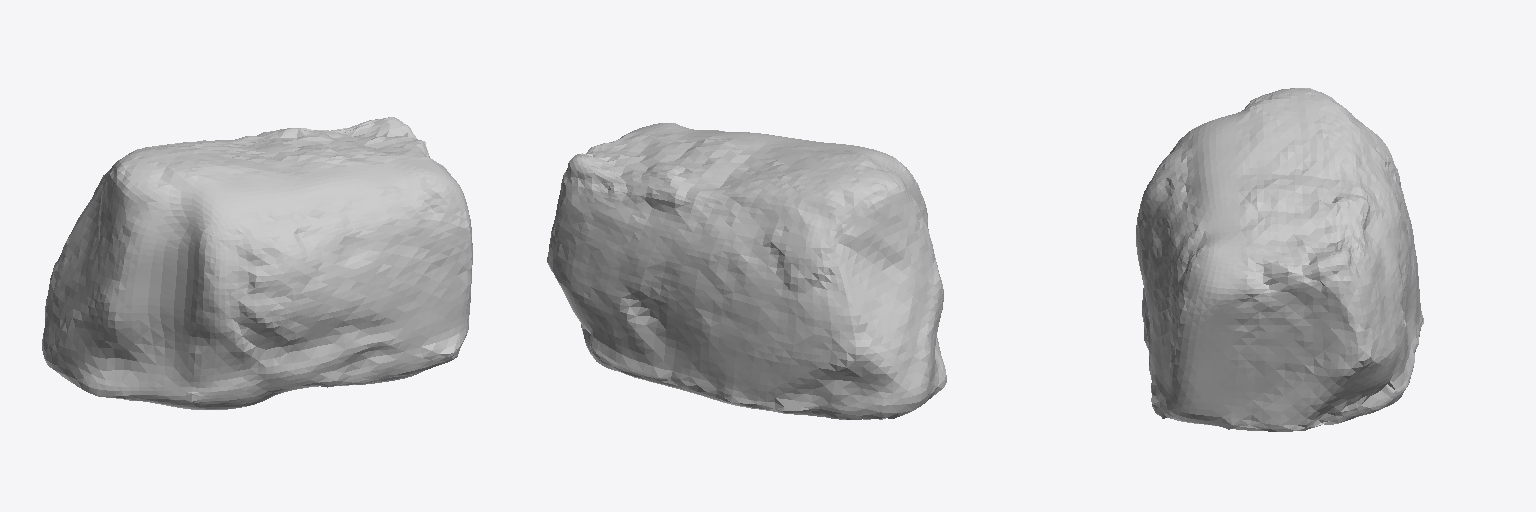
Rendered from rock2.obj.
3 renders of one model, left to right at view 1: azimuth 30°, elevation 25°; view 2: azimuth 150°, elevation 25°; view 3: azimuth 270°, elevation 25°, orthographic.
Parts seen in each view (by area): view 1: rock_large_Cube.001; view 2: rock_large_Cube.001; view 3: rock_large_Cube.001.
Part boxes in pixels (x1,y1,x2,y2): rock_large_Cube.001: (42, 117, 472, 409); rock_large_Cube.001: (547, 123, 946, 419); rock_large_Cube.001: (1136, 88, 1423, 431).
Bounding box in the file's own units: 1.09 × 0.6488 × 0.7534.